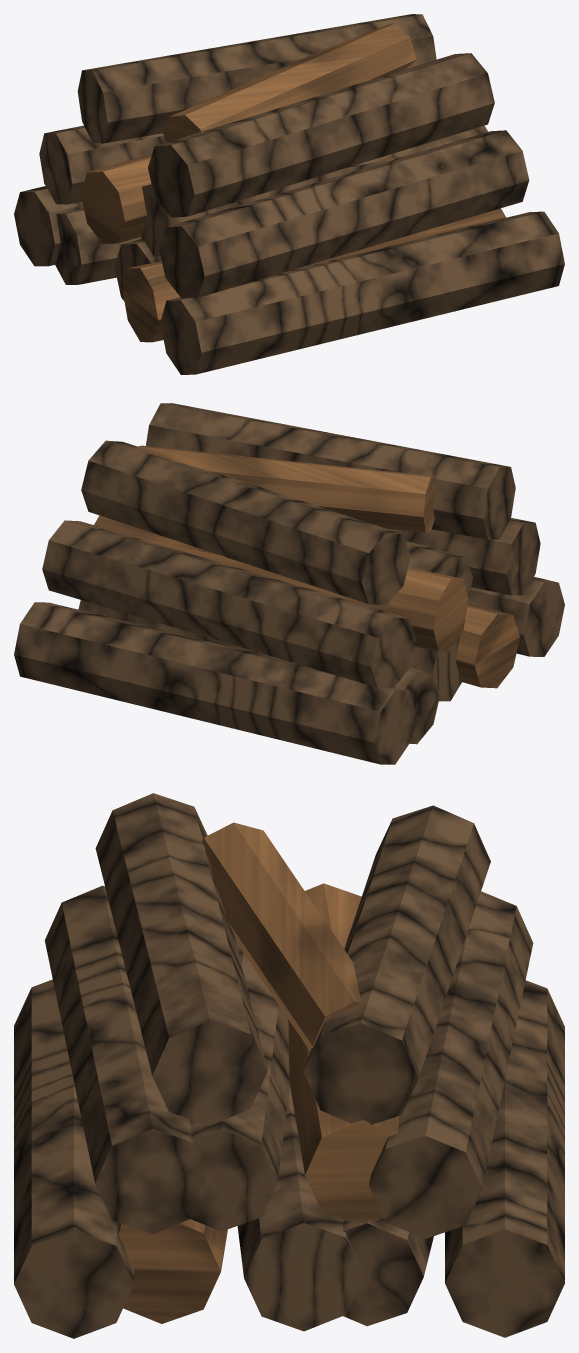
Rendered from firewood.fbx.
3 views of the same model, one above another, from view 1: azimuth 30°, elevation 25°; view 2: azimuth 150°, elevation 25°; view 3: azimuth 270°, elevation 25° (orthographic). The views are drawn at different scales.
Parts seen in each view (by area): view 1: firewood; view 2: firewood; view 3: firewood.
Part boxes in pixels (<box>): firewood: <box>14,14,564,374</box>; firewood: <box>14,403,564,764</box>; firewood: <box>14,793,564,1338</box>.
Bounding box in the file's own units: 50 × 27 × 45.
